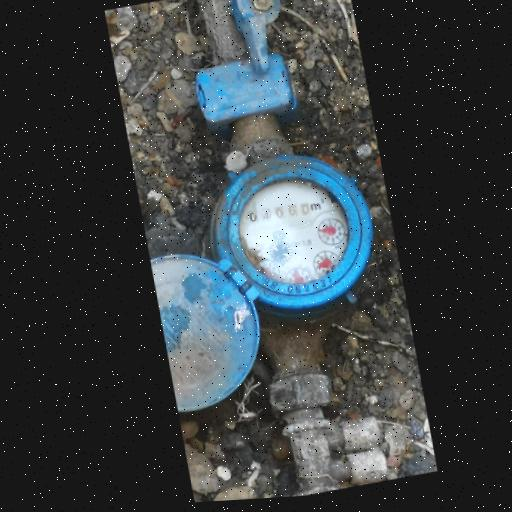0: (248, 210, 259, 224), (301, 202, 311, 216), (275, 206, 285, 219)
4: (261, 208, 272, 222)
6: (287, 205, 298, 218)
border_water_meter_number: (246, 198, 312, 227)
